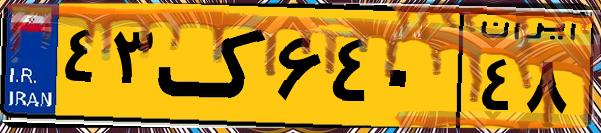0: (385, 28, 445, 110)
3: (110, 28, 158, 98)
4: (330, 28, 385, 110), (57, 26, 110, 100), (475, 38, 525, 113)
6: (270, 28, 330, 110)
8: (525, 38, 570, 115)
ک: (158, 12, 270, 120)
